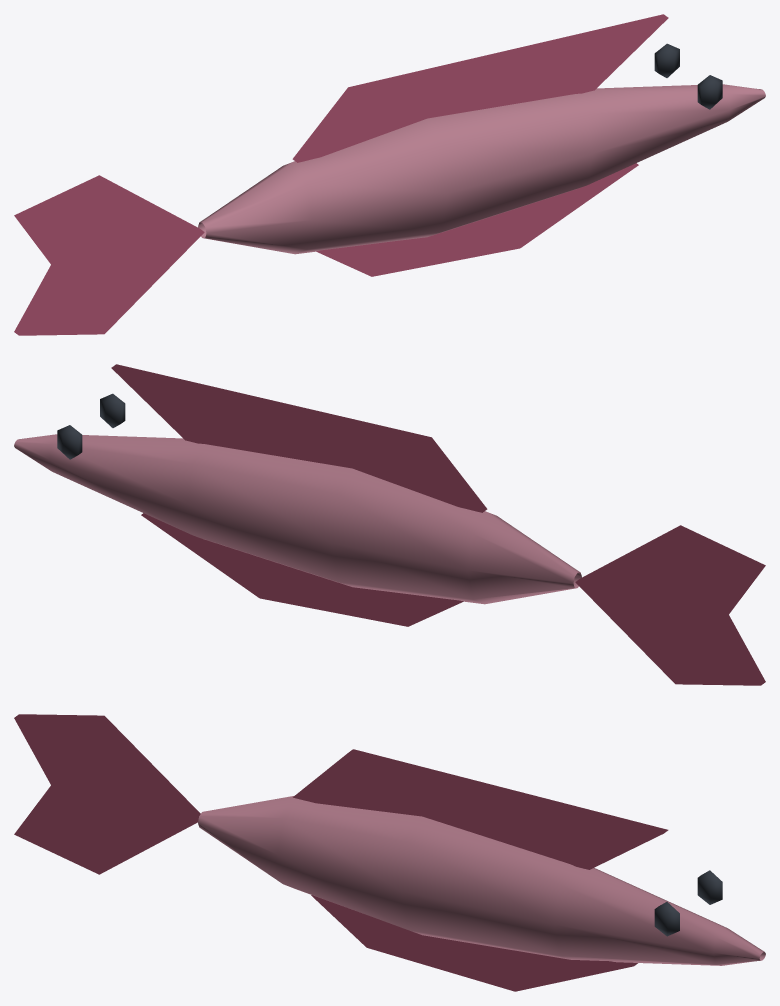
File: neon_tetra.glb
3 views of the same model, one above another, from view 1: azimuth 30°, elevation 25°; view 2: azimuth 150°, elevation 25°; view 3: azimuth 330°, elevation 25° (orthographic).
Visible parts, largest first — view 1: neon_tetra; view 2: neon_tetra; view 3: neon_tetra.
Part boxes in pixels (x1,y1,x2,y2): neon_tetra: [14, 14, 765, 335]; neon_tetra: [14, 364, 765, 685]; neon_tetra: [14, 714, 765, 991].
Bounding box in the file's own units: 2.01 × 0.51 × 0.2297.
